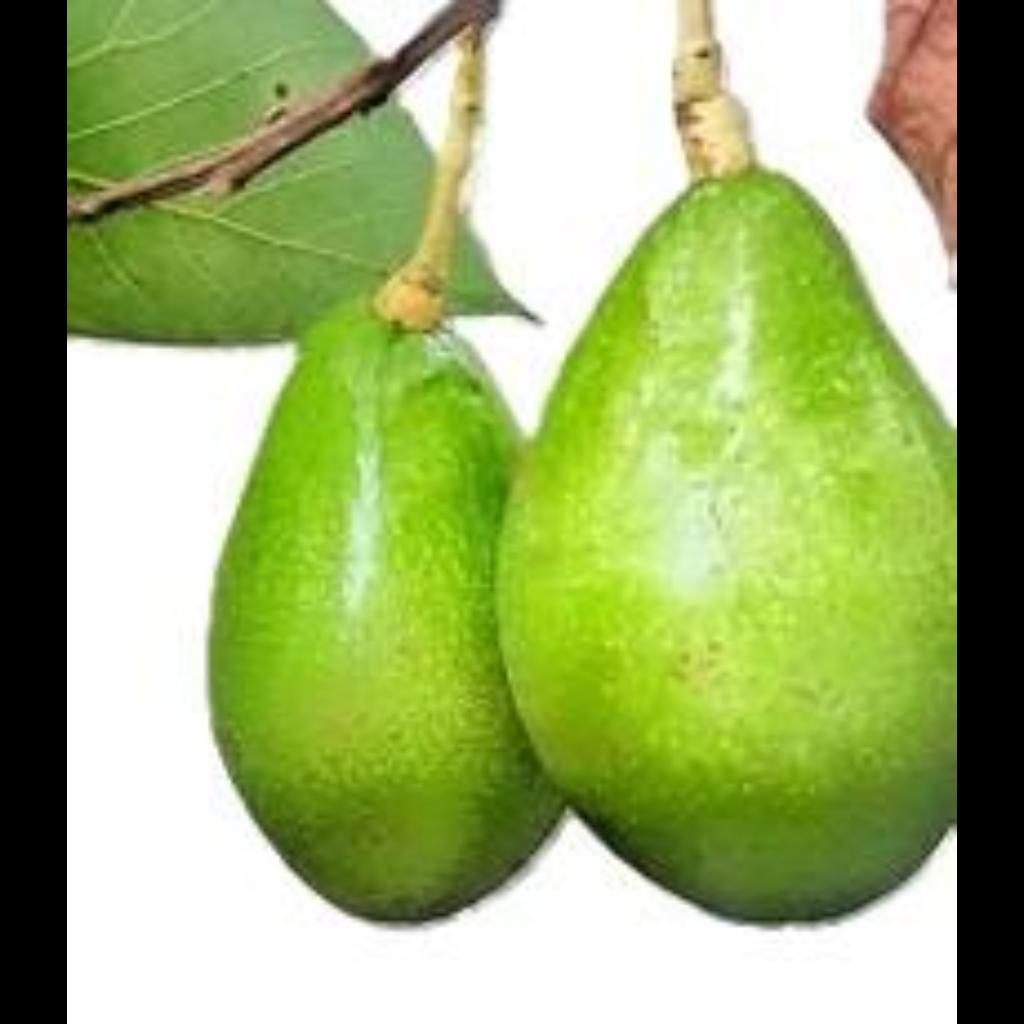Healthy: (498, 176, 958, 924), (206, 278, 512, 932)
